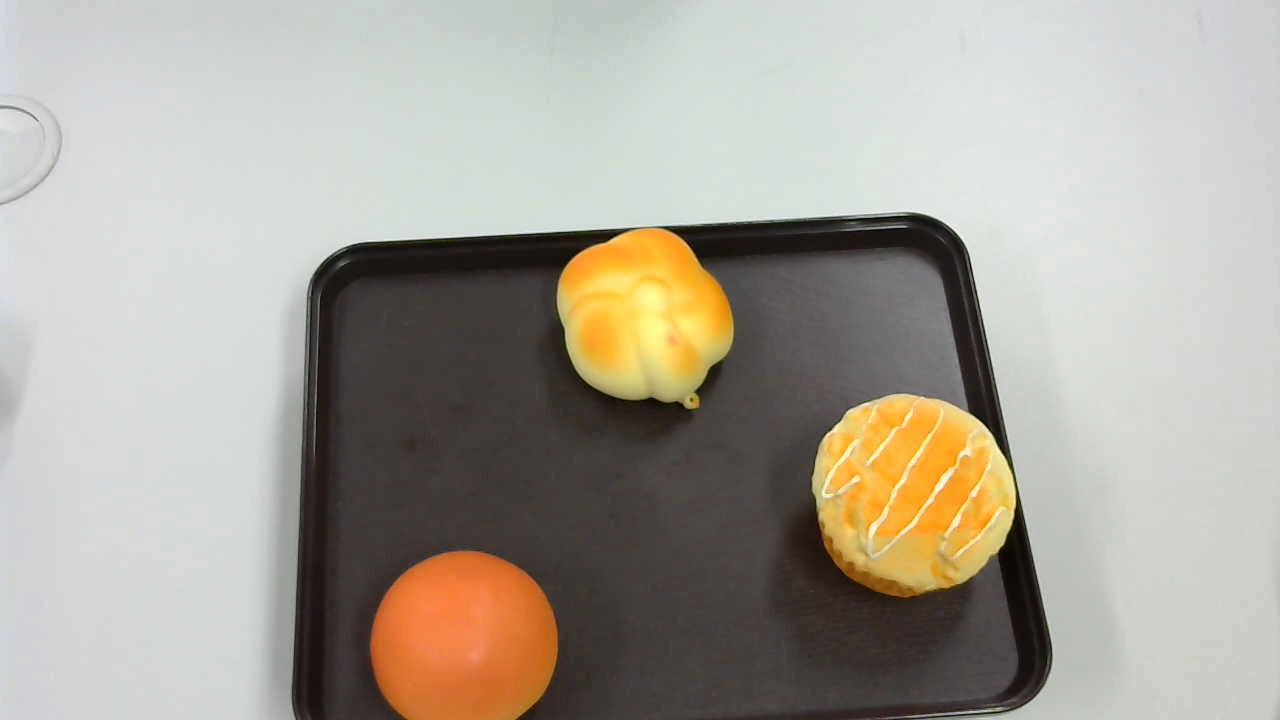bun: (368, 551, 560, 718)
cupcake: (808, 391, 1018, 598)
twist bread: (558, 228, 734, 409)
